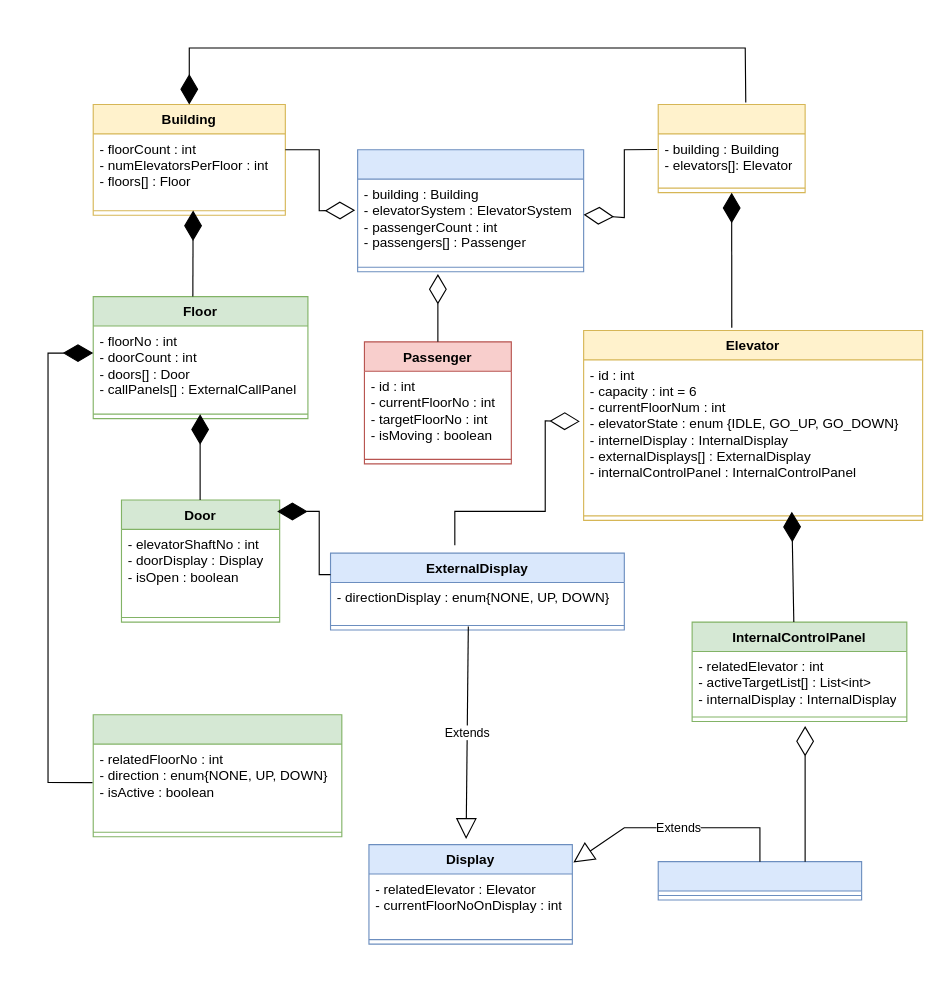
The diagram is 942 pixels wide and 997 high, and some of its shapes have lost their labels. Each missing label, with the box of its shape:
Elevator System: (657, 103, 805, 193)
ExternalCallPanel: (92, 714, 342, 837)
InternalDisplay: (657, 860, 862, 900)
Simulator: (357, 149, 584, 272)
